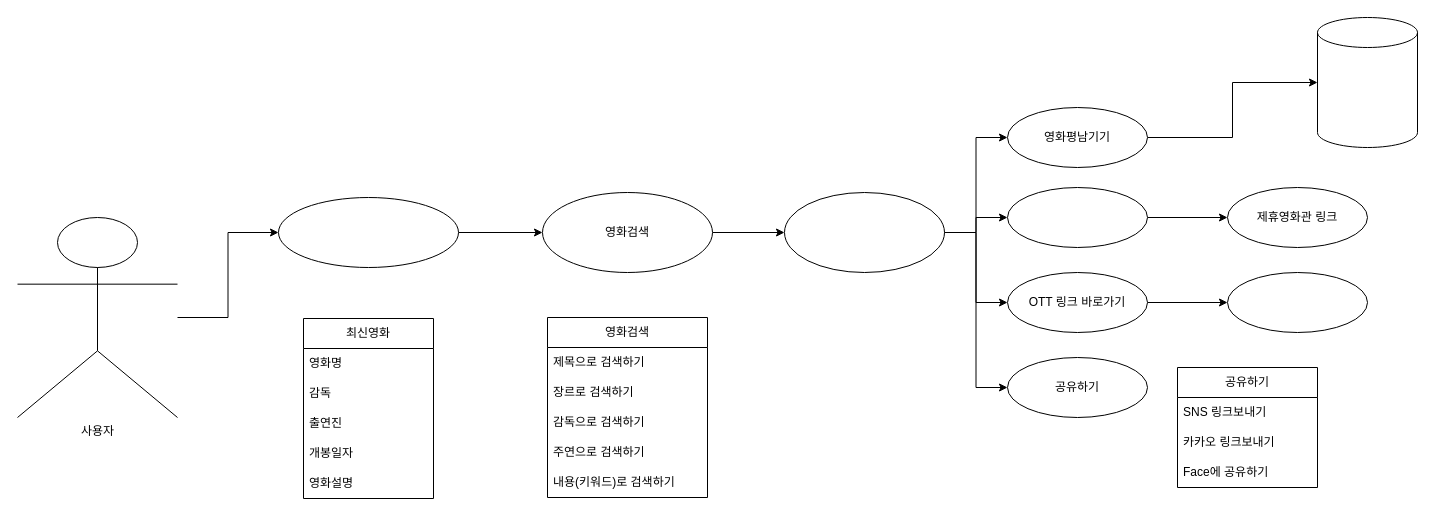
Some shapes in this 1435 by 516 pixel diagram are drawn without their labels. The centre of each missing label's shape, as x and y in pixels:
"OTT 연결" goes at (1297,302).
"시작화면" goes at (368,232).
"영화예매하기" goes at (1077,217).
"자세히 보기" goes at (864,232).
